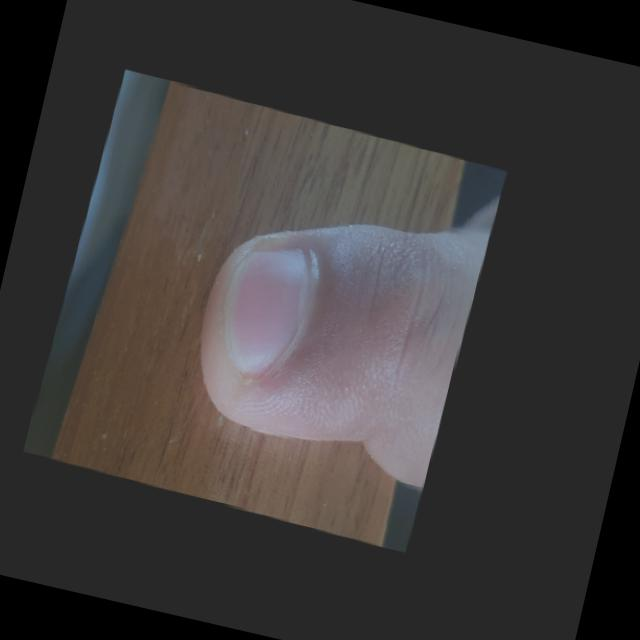Nail: (224, 241, 310, 374)
